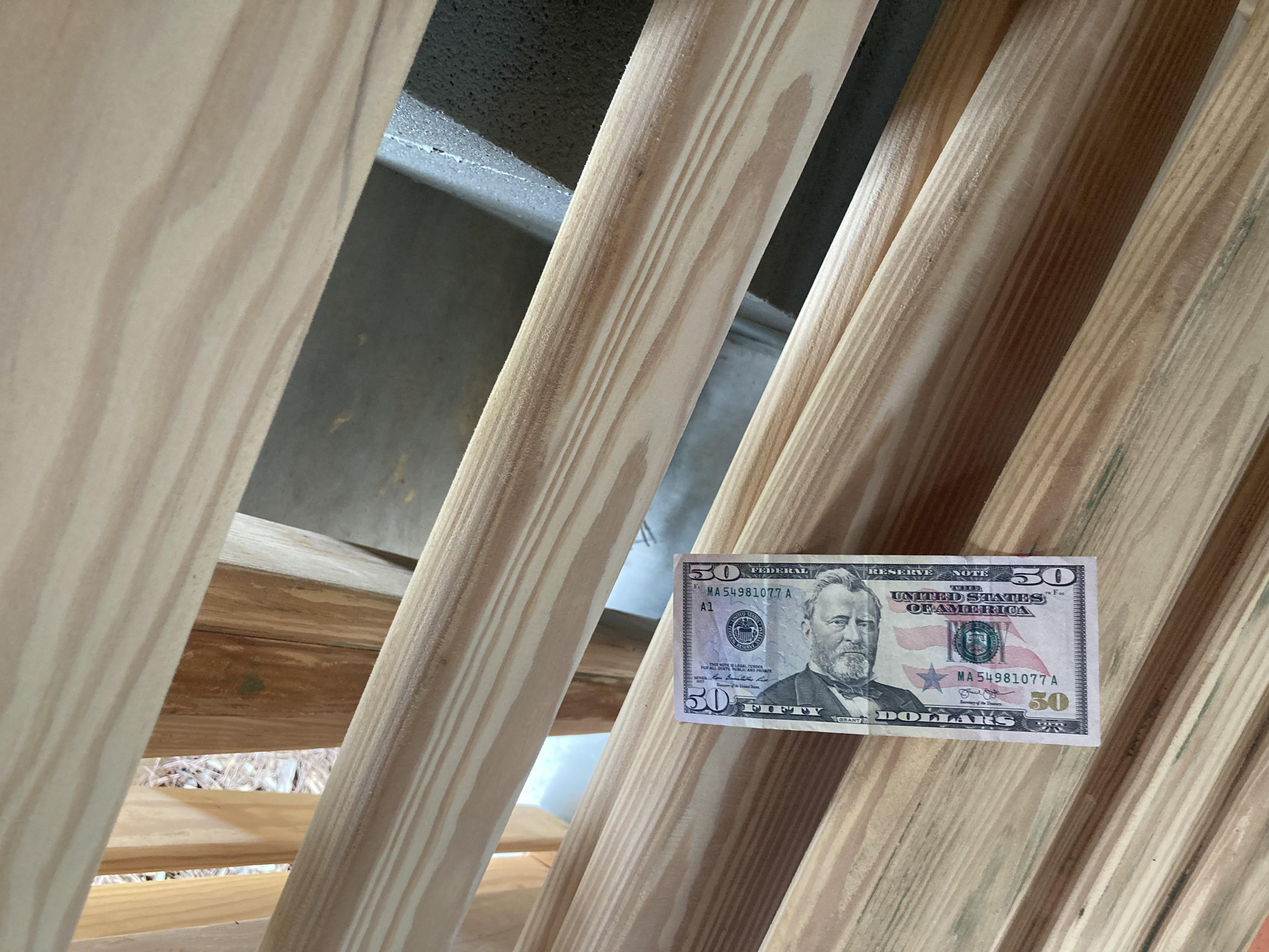fifty-front: (275, 505, 530, 828)
